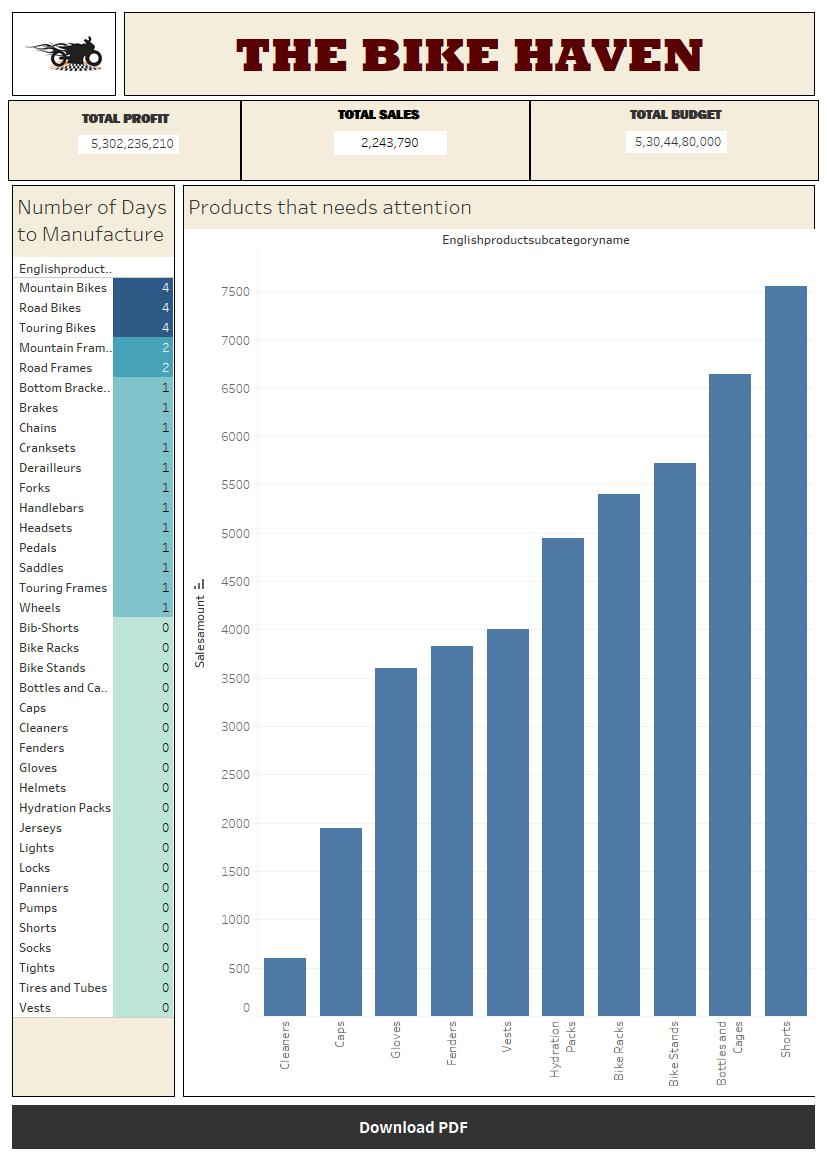

The page's visual inventory and layout, read from the dashboard file:
{"tool":"tableau","page":{"name":"Dashboard 4","canvas":[827,1169],"ordinal":3},"visuals":[{"type":"image","param":"C:/Users/pc/Downloads/images.png","box":[8,8,112,92]},{"type":"text","box":[120,8,699,92]},{"type":"worksheet","title":"Total Sales","mark":"Automatic","box":[8,99.9,382,80.6]},{"type":"worksheet","title":"Total Budget","mark":"Automatic","box":[390,99.9,429,80.6]},{"type":"worksheet","title":"No. of Days to Manufacture","mark":"Square","rows":["englishproductsubcategoryname"],"box":[8,180.5,171,920.5]},{"type":"worksheet","title":"Products that needs attention","mark":"Automatic","rows":["salesamount"],"cols":["englishproductsubcategoryname"],"box":[179,180.5,640,920.5]},{"type":"dashboard-object","box":[8,1101,811,52]}]}

Visuals, with their boxes in screenshot pixels (x1, y1, x2, y2), scaled from the page's 827x1169 canvas onto the 827x1169 screenshot:
image: box=[8, 8, 120, 100]
text: box=[120, 8, 819, 100]
"Total Sales" worksheet: box=[8, 100, 390, 180]
"Total Budget" worksheet: box=[390, 100, 819, 180]
"No. of Days to Manufacture" worksheet (Square marks): box=[8, 180, 179, 1101]
"Products that needs attention" worksheet: box=[179, 180, 819, 1101]
dashboard-object: box=[8, 1101, 819, 1153]
